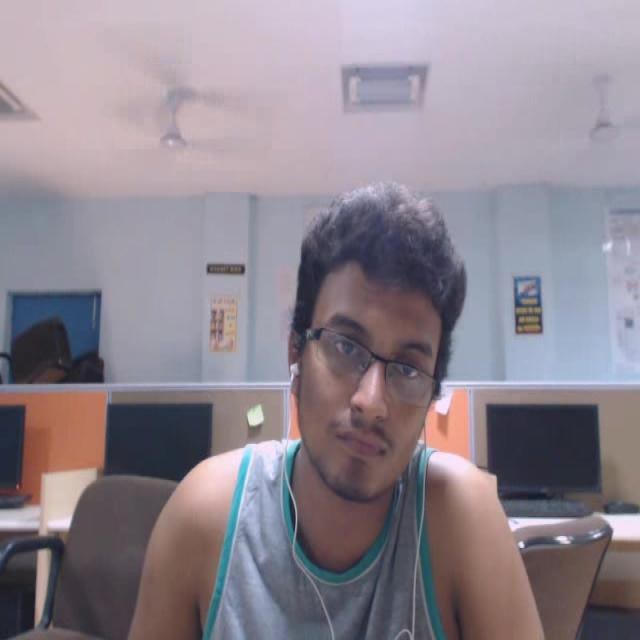Engaged: (261, 167, 484, 537)
